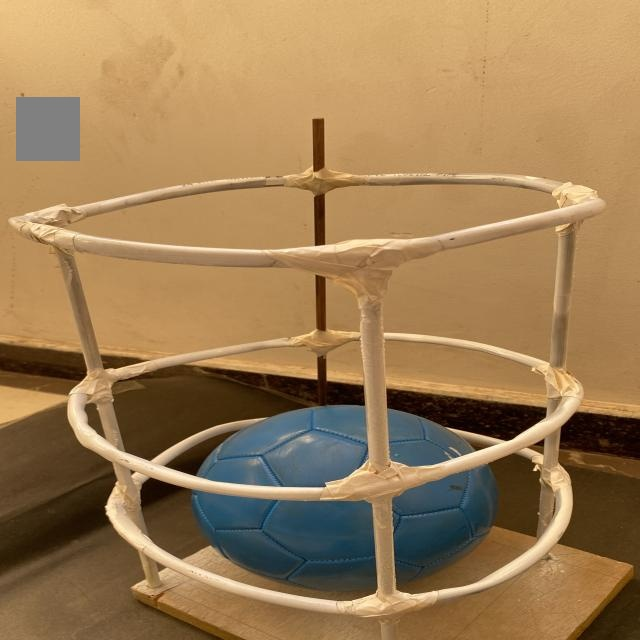blue_ball: (194, 402, 502, 586)
silo: (0, 135, 640, 640)
